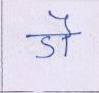ai_matra: (49, 10, 74, 33)
